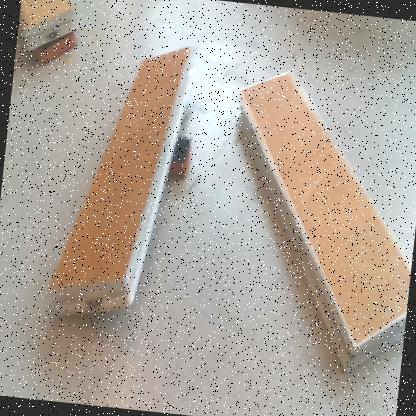Stairs: (237, 72, 412, 376), (46, 46, 197, 322), (19, 1, 78, 53)
